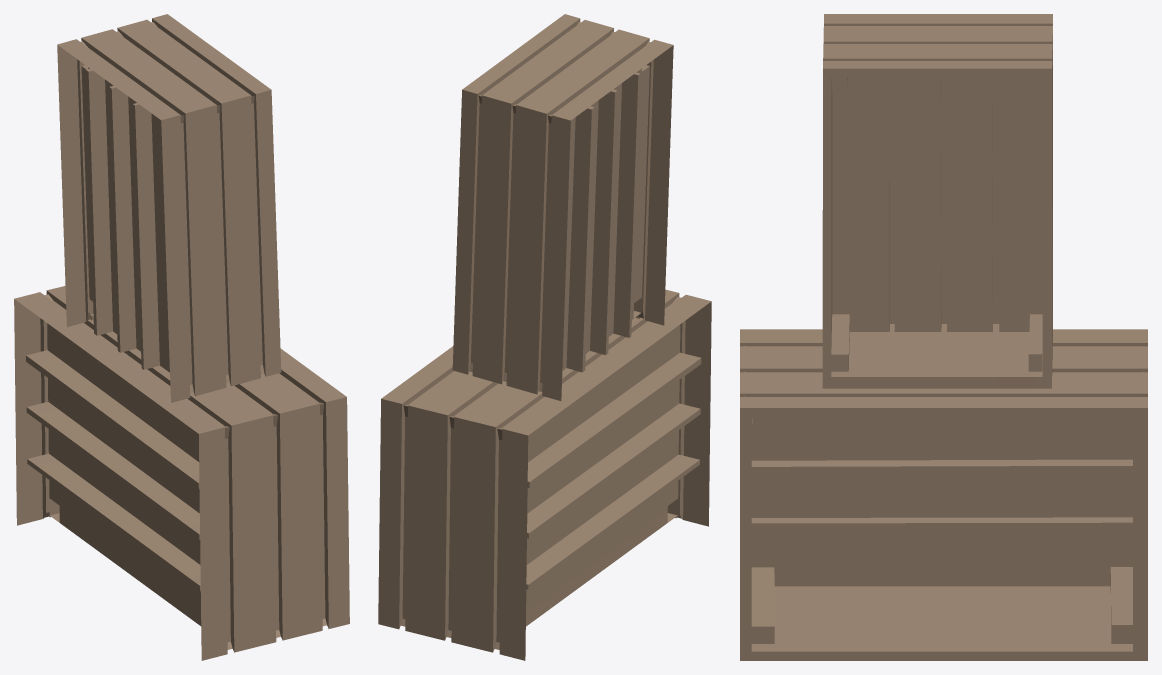
3 views of the same model, side by side, from view 1: azimuth 30°, elevation 25°; view 2: azimuth 150°, elevation 25°; view 3: azimuth 270°, elevation 25° (orthographic). The views are drawn at different scales.
Visible parts, largest first — view 1: youleback18; view 2: youleback18; view 3: youleback18.
Boxes of the visible parts, x1,y1,x2,y2 form: youleback18: [14, 14, 349, 660]; youleback18: [378, 14, 711, 660]; youleback18: [740, 14, 1147, 660].
Size of the model in its own units: 1.86 by 6.08 by 3.93.
